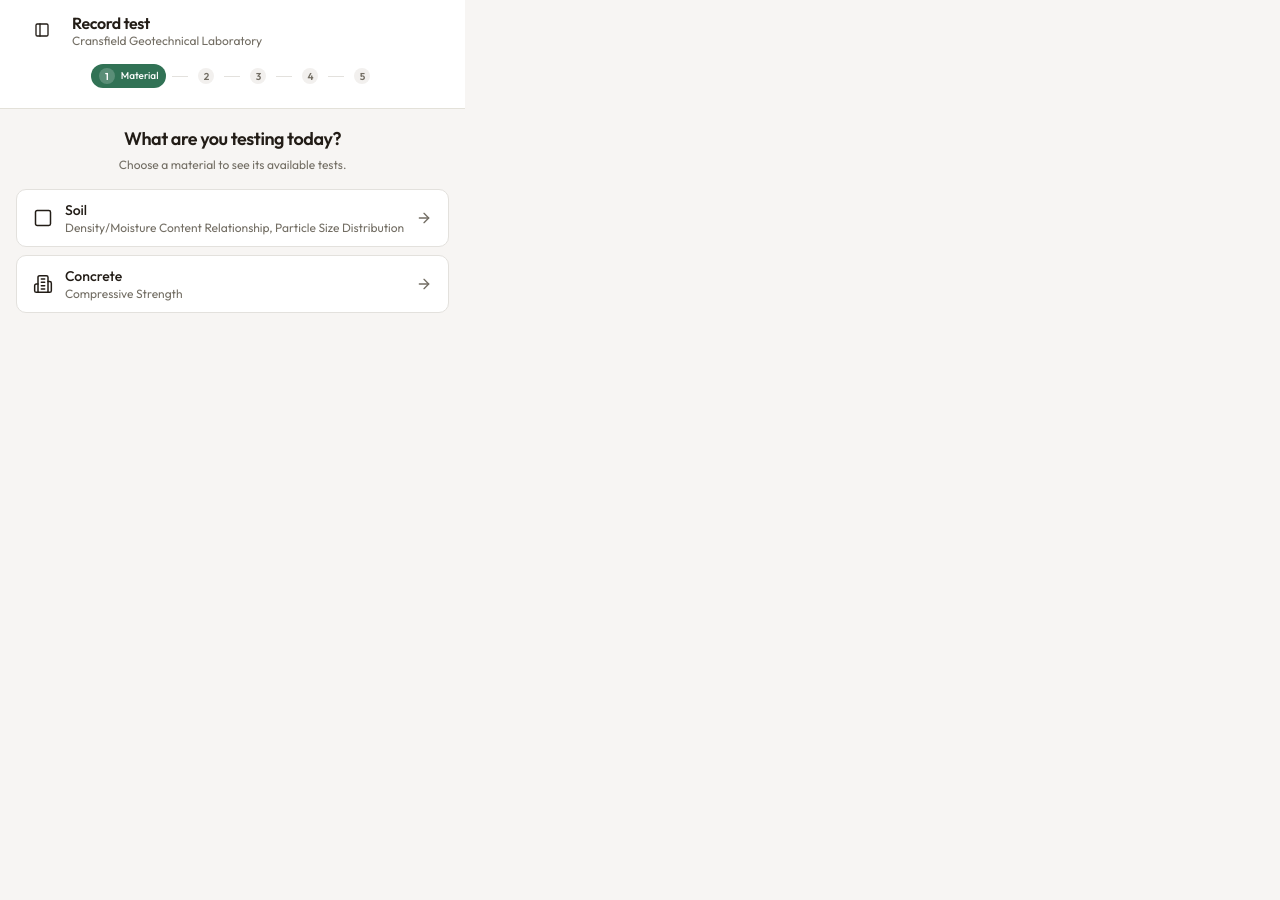
Test: RecordTestWizard selection flow › stays on the current step when backward navigation is dismissed and preserves the draft
The image size is (1280, 900).
Click the button "Soil" at x=233, y=218, box [16, 189, 449, 247]
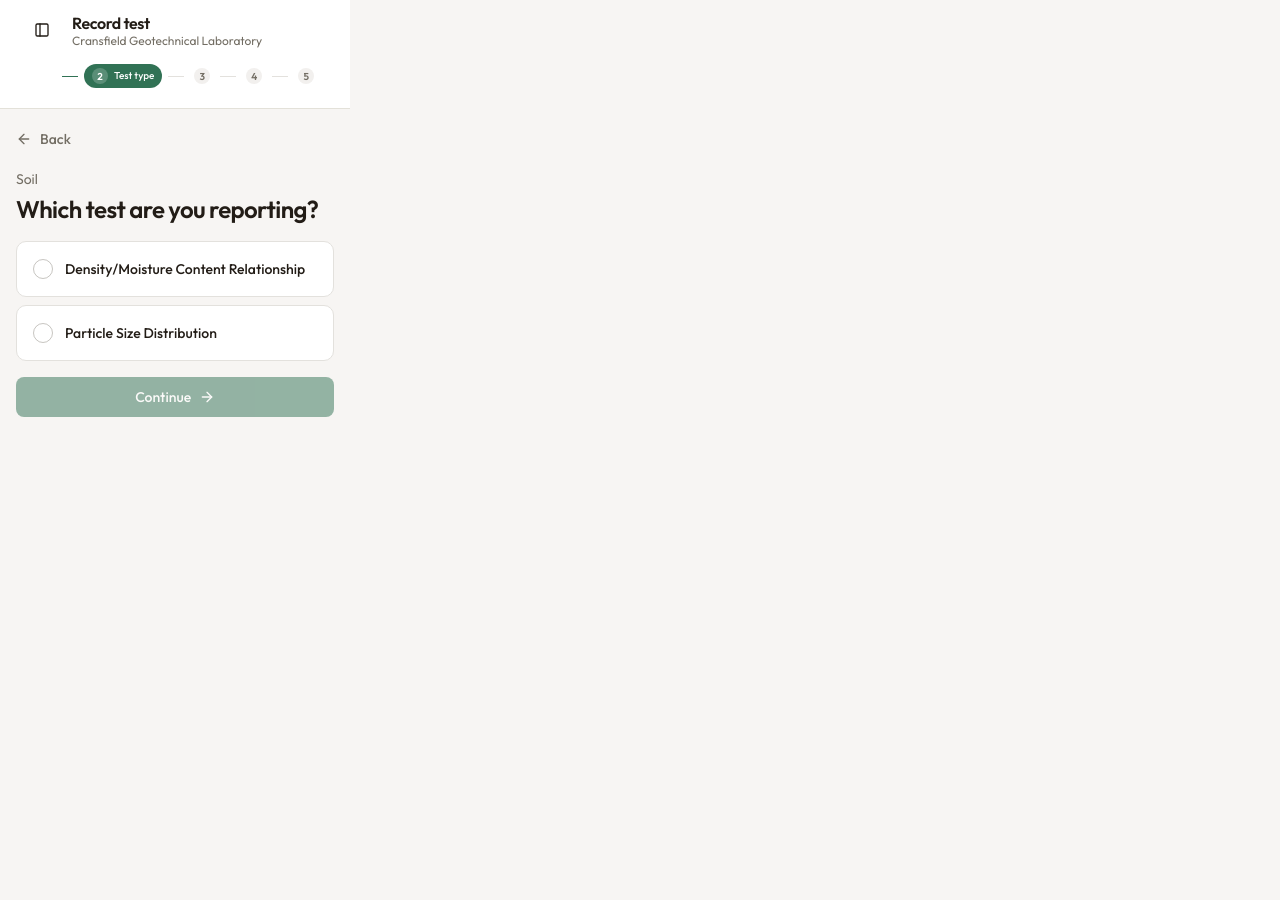
Expected: the heading "Which test are you reporting?" is shown, [16, 193, 334, 225]
Click the button "Density/Moisture Content Relationship" at x=175, y=269, box [16, 241, 334, 297]
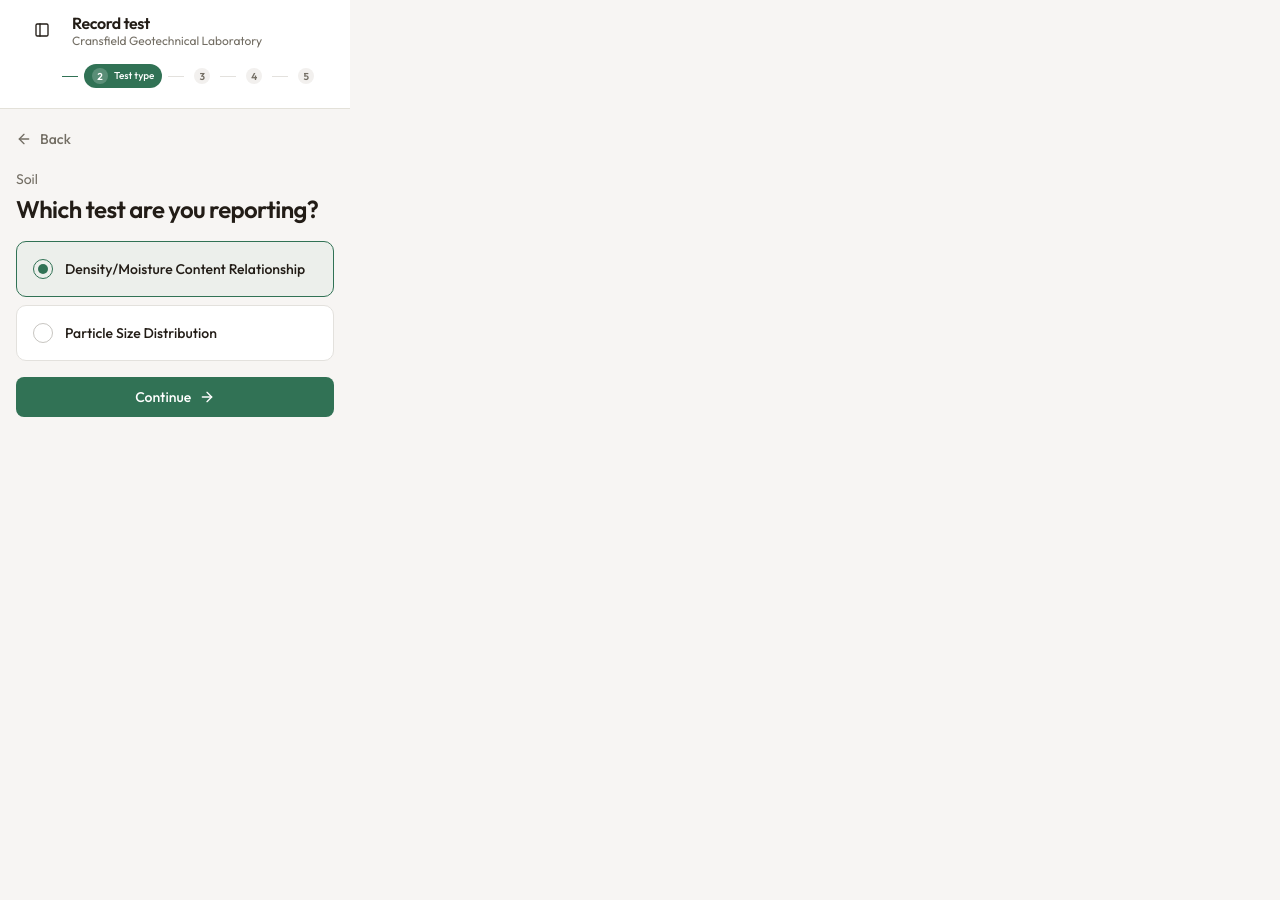
Click the button "Back" at x=43, y=139, box [8, 125, 79, 153]
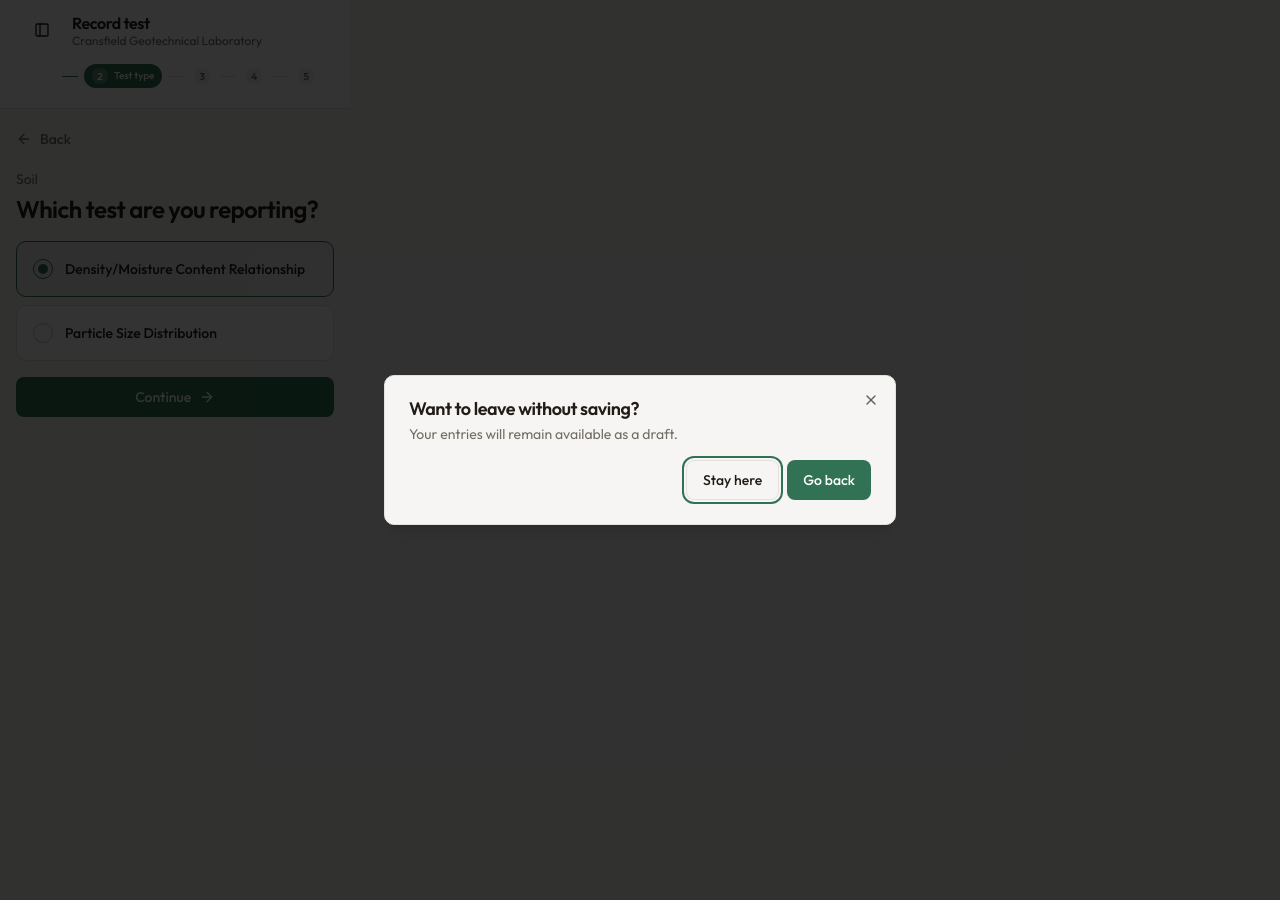
Expected: the dialog shows "Want to leave without saving?", [409, 397, 639, 420]
Click the button "Stay here" at x=733, y=480, box [686, 460, 779, 500]
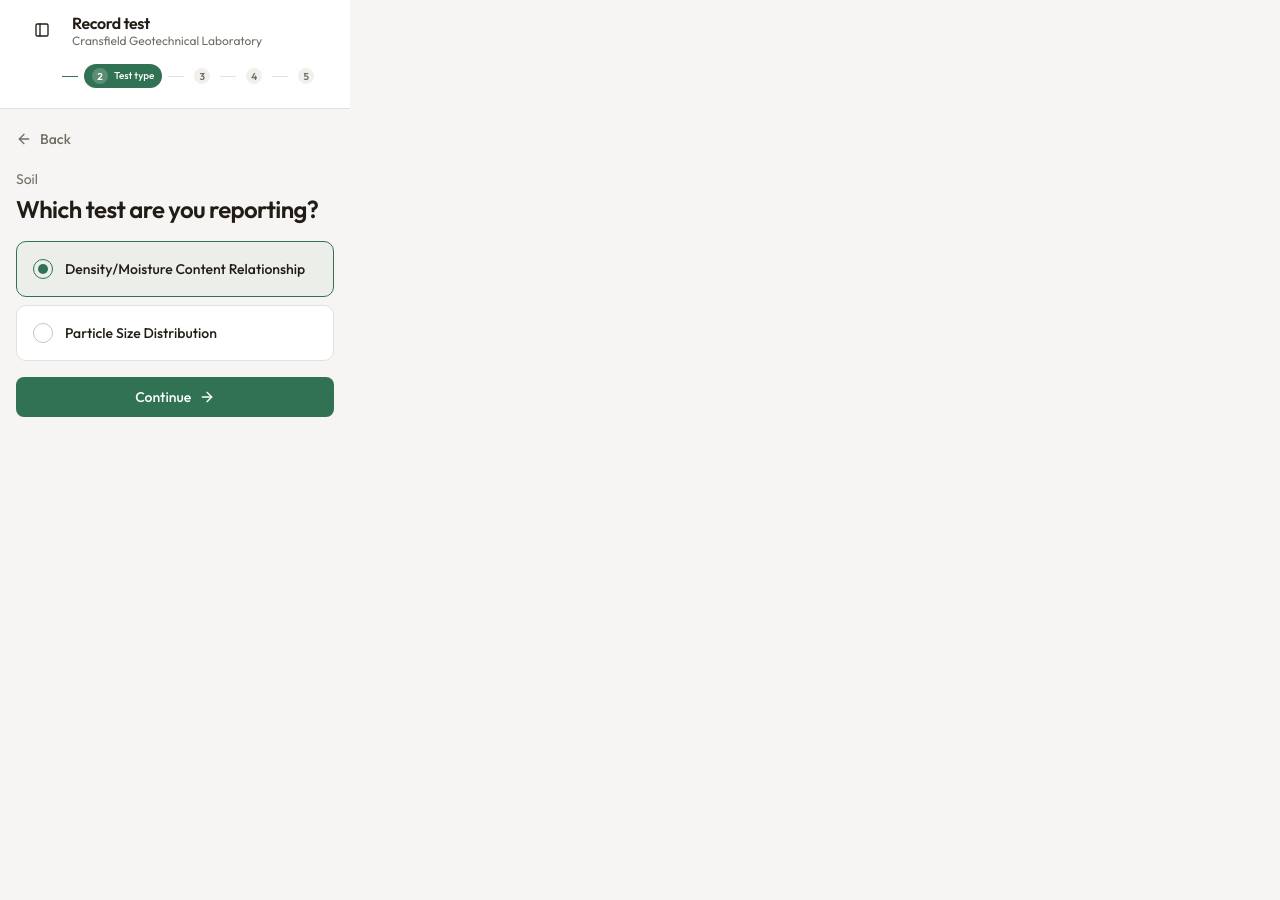
Expected: the heading "Which test are you reporting?" is shown, [16, 193, 334, 225]
Expected: the dialog is gone
